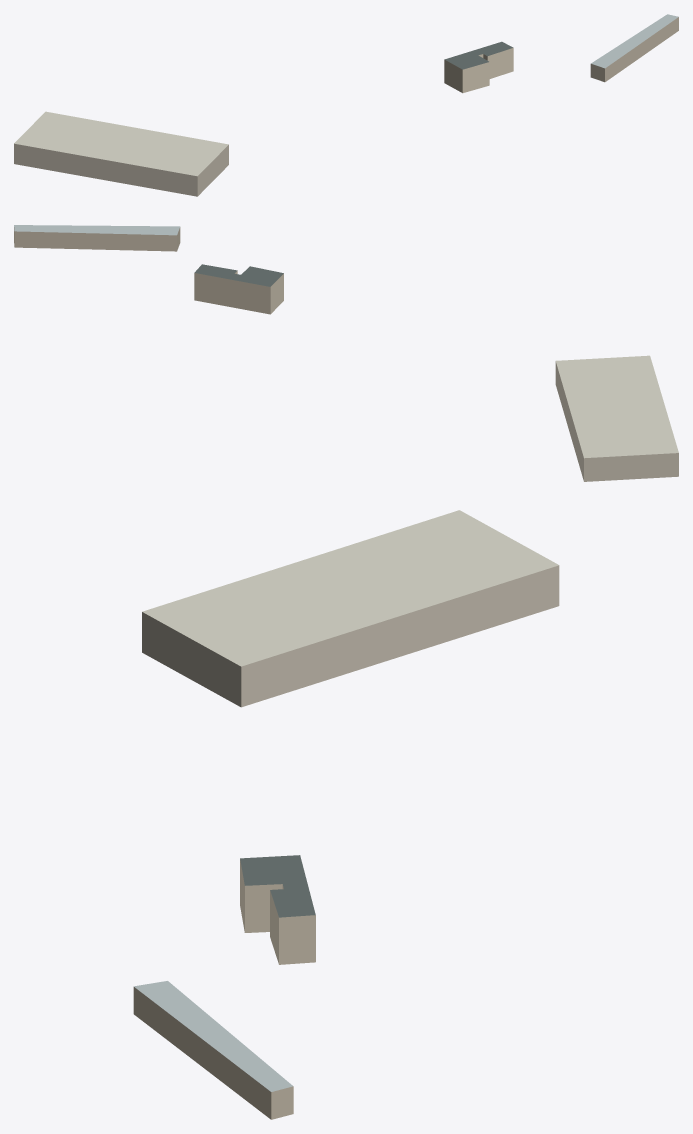
3 views of the same model, one above another, from view 1: azimuth 30°, elevation 25°; view 2: azimuth 150°, elevation 25°; view 3: azimuth 270°, elevation 25° (orthographic). The views are drawn at different scales.
Parts seen in each view (by area): view 1: tuile; view 2: tuile; view 3: tuile.
Part boxes in pixels (bbox=[...]): tuile: bbox=[14, 14, 678, 196]; tuile: bbox=[14, 225, 678, 481]; tuile: bbox=[133, 510, 559, 1119].
Size of the model in its own units: 237 by 14.1 by 70.8.
